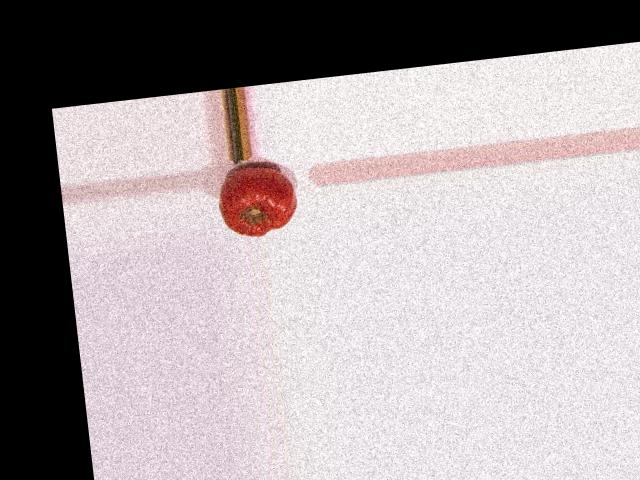tomato: (216, 163, 299, 239)
